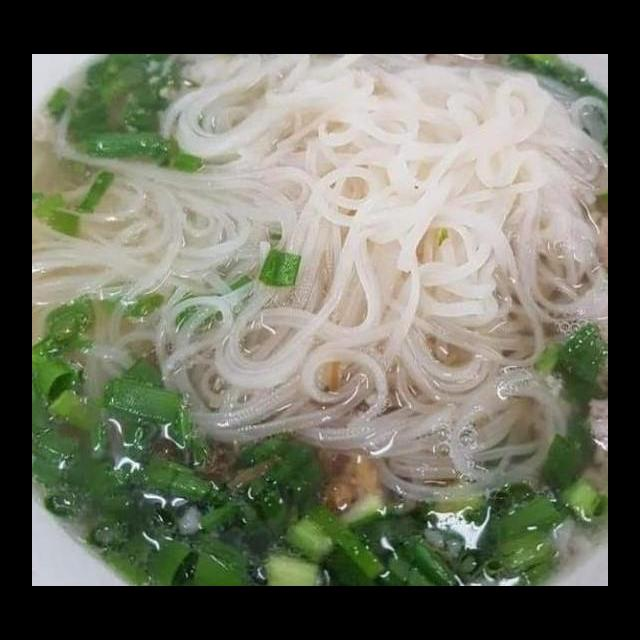banh hu tieu: (33, 55, 608, 508)
